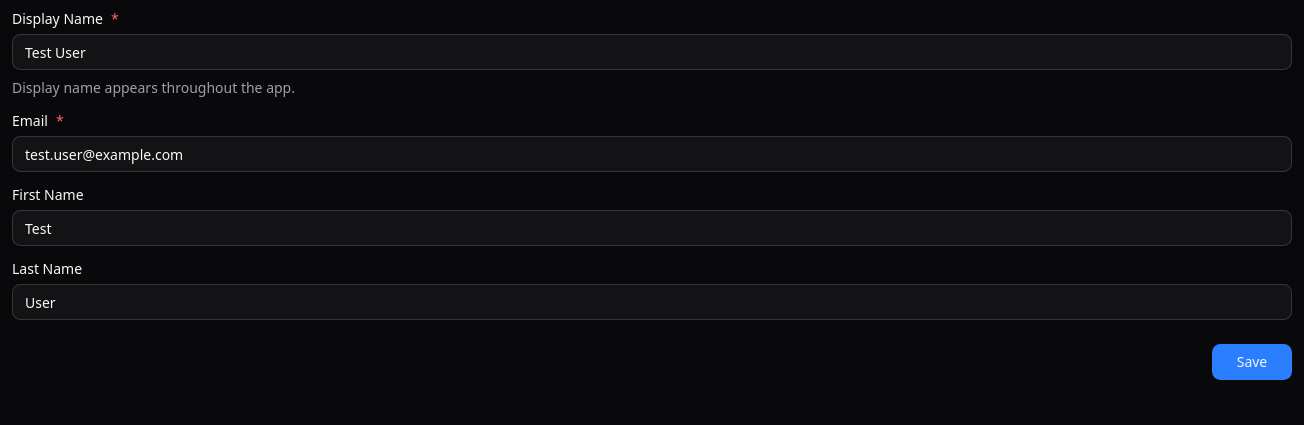
AccountForm › requires a display name
Clear the field labelled "Display Name": (652, 52) [12, 34, 1292, 70]
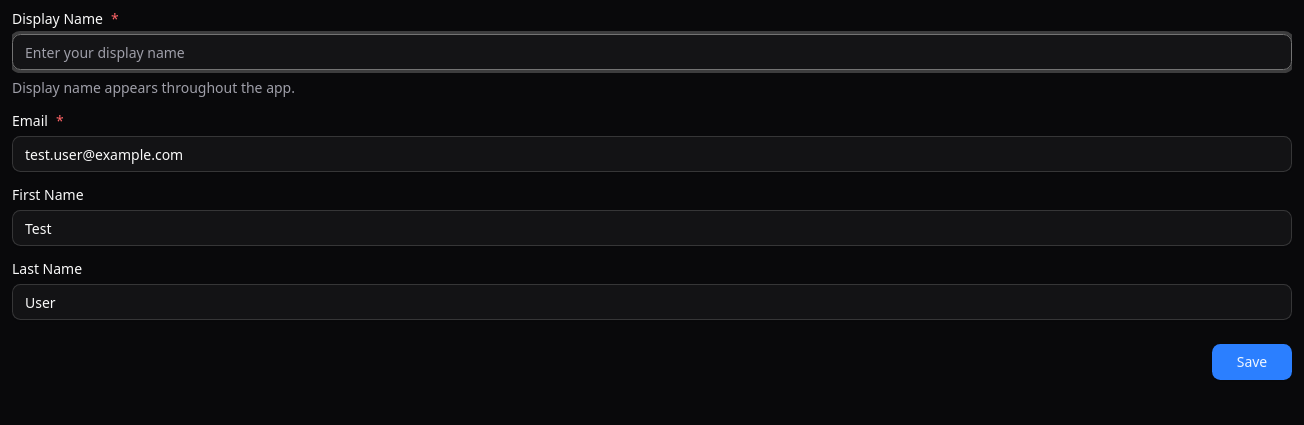
Press Tab
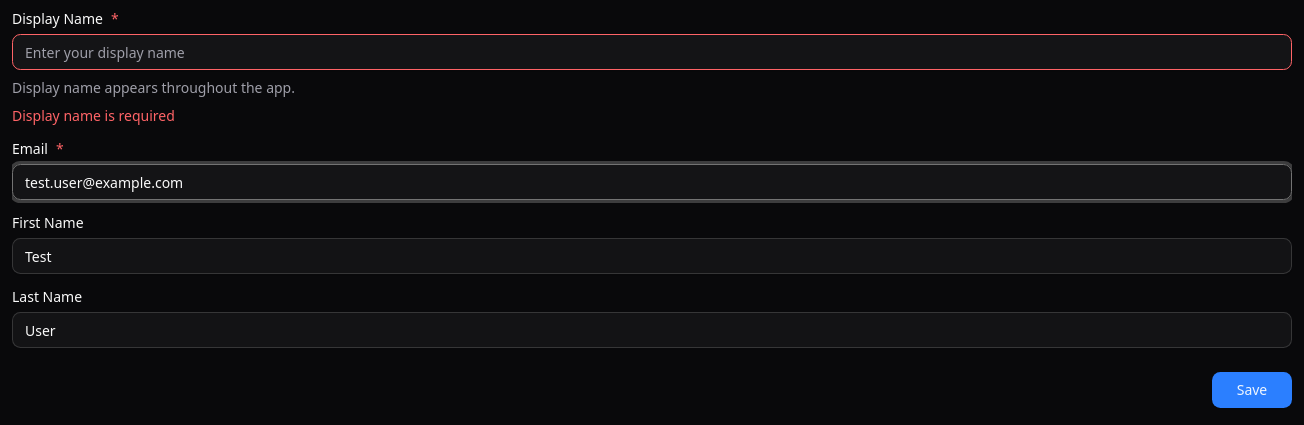
Now the text "Display name is required" is shown, box [12, 106, 175, 125]
